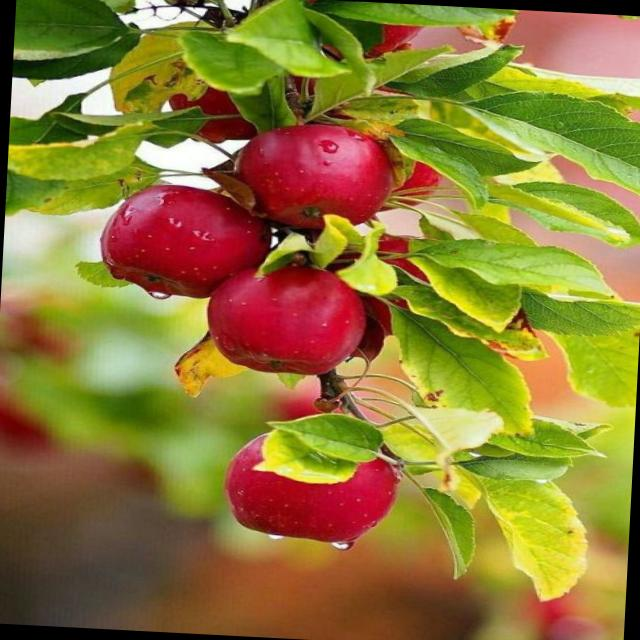Tao: (218, 426, 400, 548), (94, 180, 270, 302), (200, 259, 370, 379), (230, 120, 398, 233)
